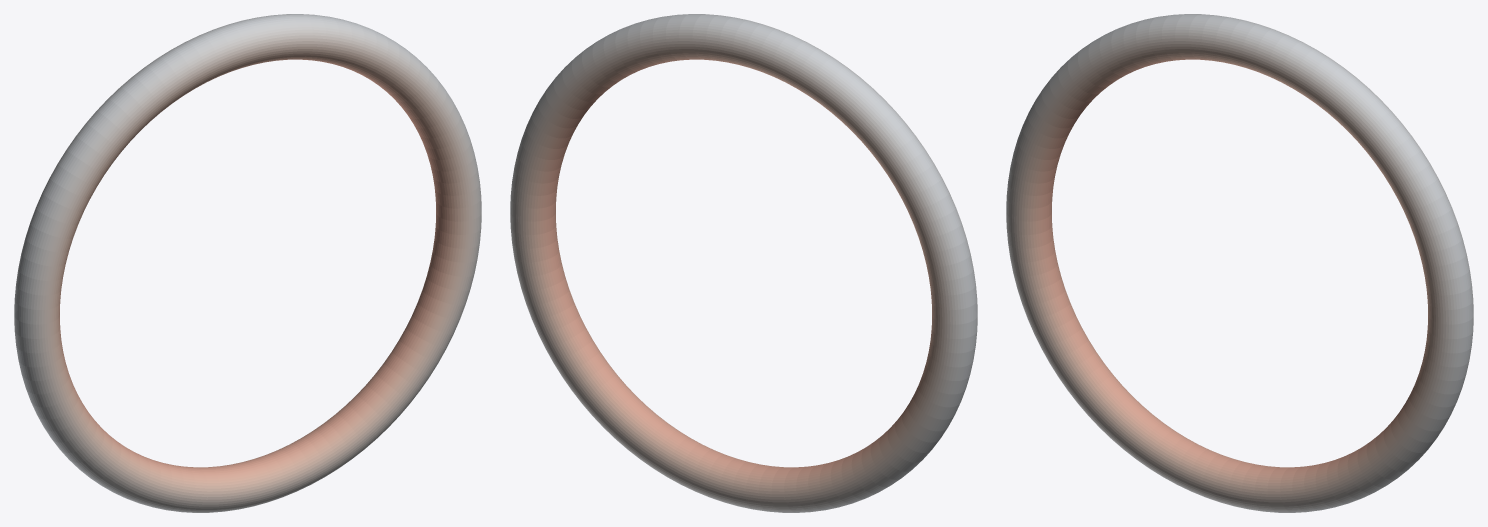
The picture shows the model from 3 angles, left to right: view 1: azimuth 30°, elevation 25°; view 2: azimuth 150°, elevation 25°; view 3: azimuth 330°, elevation 25°; orthographic projection.
Parts seen in each view (by area): view 1: world; view 2: world; view 3: world.
Part boxes in pixels (x1,y1,x2,y2): world: (14, 14, 481, 512); world: (510, 14, 977, 512); world: (1006, 14, 1473, 512).
Size of the model in its own units: 23.33 by 23.33 by 2.
